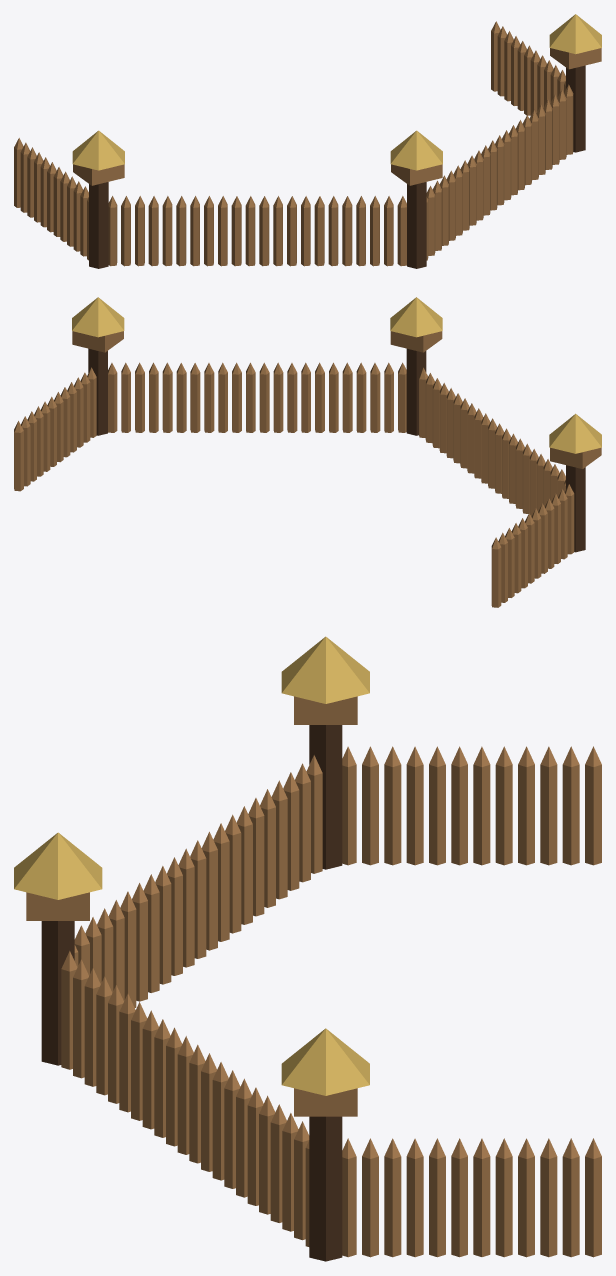
File: walls_0_front.fbx
The picture shows the model from 3 angles, top to bottom: view 1: azimuth 30°, elevation 25°; view 2: azimuth 150°, elevation 25°; view 3: azimuth 270°, elevation 25°; orthographic projection. The views are drawn at different scales.
Visible parts, largest first — view 1: walls_0_front; view 2: walls_0_front; view 3: walls_0_front.
Boxes of the visible parts, bbox=[...] form: walls_0_front: bbox=[14, 14, 601, 268]; walls_0_front: bbox=[14, 297, 601, 607]; walls_0_front: bbox=[14, 636, 601, 1261].
Size of the model in its own units: 161 by 39 by 92.26.
